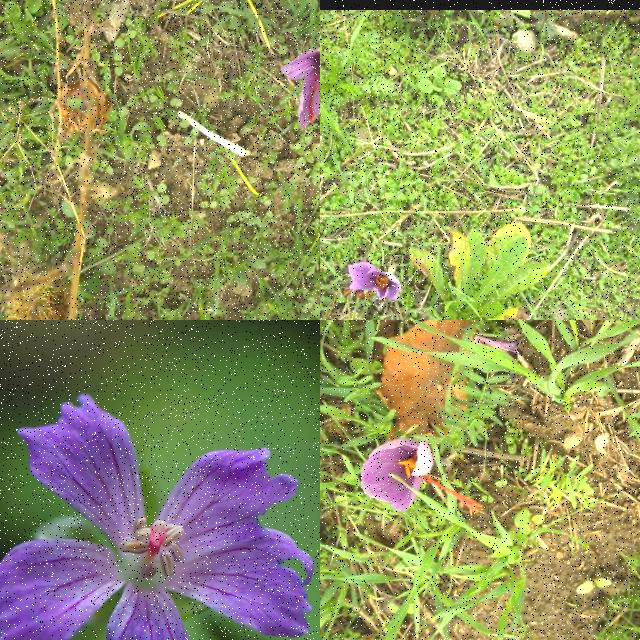flower: (360, 436, 480, 514), (281, 35, 320, 130), (348, 263, 402, 303)
